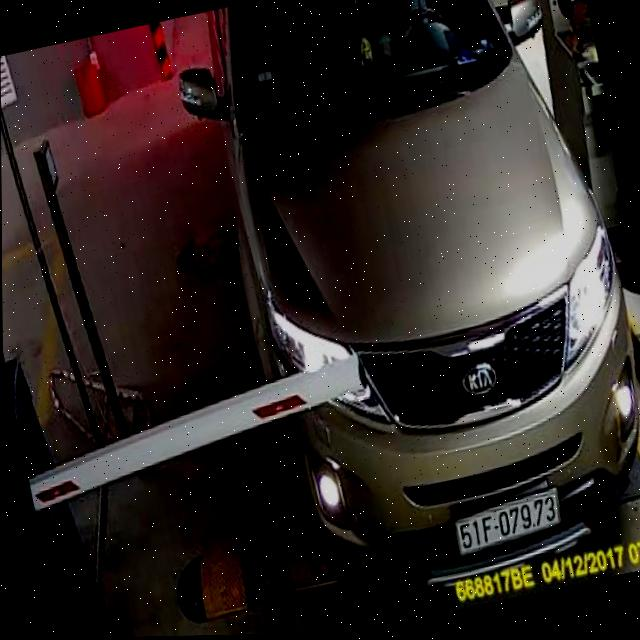car: (161, 0, 640, 617)
plate: (450, 489, 569, 557)
